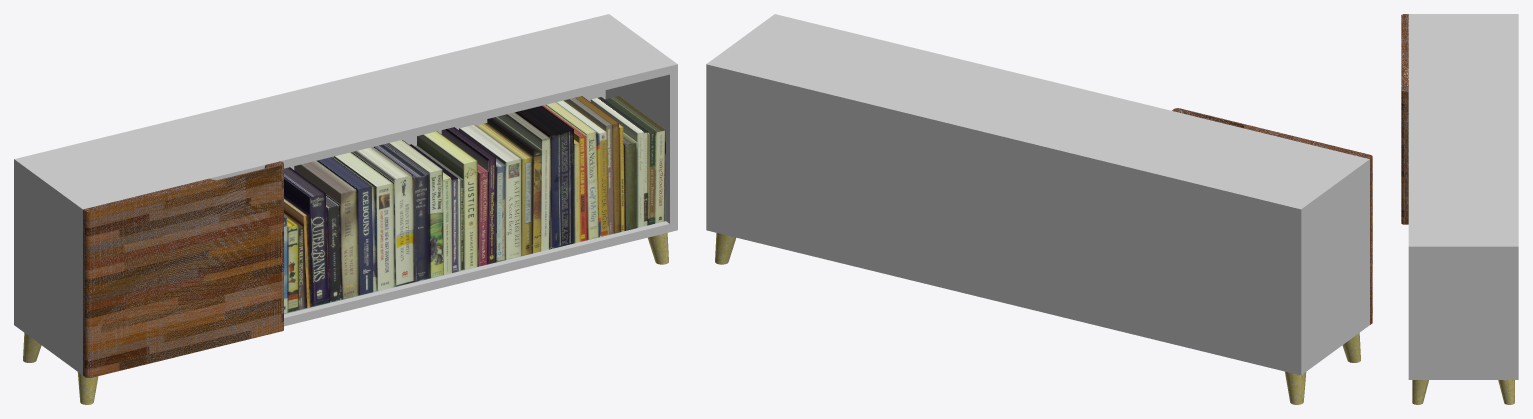
The model's file is cabinet.dae.
3 renders of one model, left to right at view 1: azimuth 30°, elevation 25°; view 2: azimuth 150°, elevation 25°; view 3: azimuth 270°, elevation 25°, orthographic. The views are drawn at different scales.
Visible parts, largest first — view 1: group_2 (×2), group_6, group_0 (×2); view 2: group_2, group_0; view 3: group_2, group_0 (×3), group_5, group_4.
Boxes of the visible parts, x1,y1,x2,y2 form: group_2 (×2): (14,14,677,375); group_6: (284,96,665,314); group_0 (×2): (83,161,283,377); group_2: (706,14,1369,375); group_0: (1172,108,1372,324); group_2: (1408,14,1518,379); group_0 (×3): (1401,14,1408,224); group_5: (1412,380,1428,404); group_4: (1498,380,1514,404).
Size of the model in its own units: 59.06 by 12.6 by 18.9.
